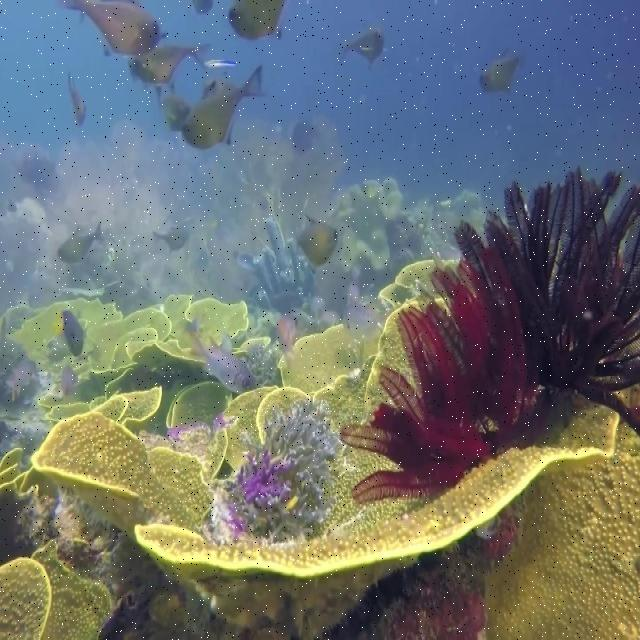fish: (180, 62, 269, 150), (62, 0, 167, 56), (184, 315, 256, 394), (128, 43, 210, 101), (227, 0, 288, 41), (298, 213, 338, 267), (57, 222, 105, 263), (344, 28, 385, 62), (63, 311, 83, 356)
reefs: (341, 163, 639, 502), (134, 405, 619, 584), (485, 417, 639, 639), (29, 411, 215, 542), (218, 398, 338, 546), (1, 539, 113, 639), (328, 178, 404, 273), (253, 215, 316, 314), (91, 385, 163, 424)
